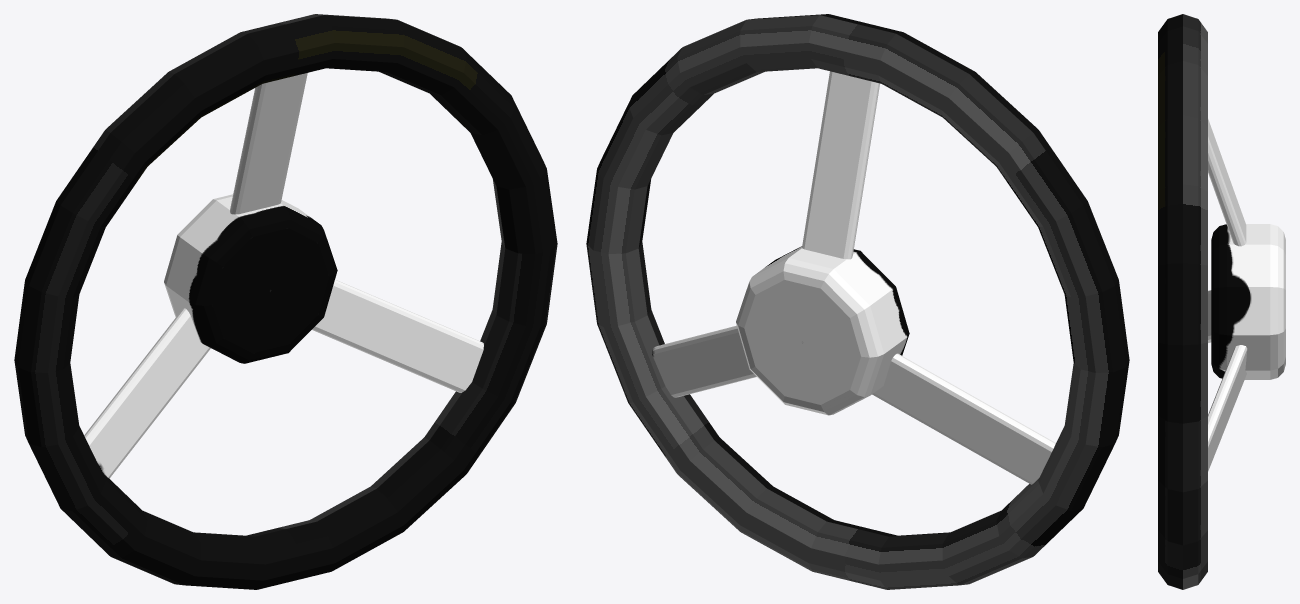
File: wheel.glb
3 views of the same model, side by side, from view 1: azimuth 30°, elevation 25°; view 2: azimuth 150°, elevation 25°; view 3: azimuth 270°, elevation 25° (orthographic). The views are drawn at different scales.
Visible parts, largest first — view 1: node_id18, node_id15, node_id9, node_id12, node_id6; view 2: node_id18, node_id15, node_id6, node_id12, node_id9; view 3: node_id18, node_id15, node_id9, node_id6, node_id12.
Part boxes in pixels (<box>): node_id18: <box>14,14,557,589</box>; node_id15: <box>164,194,337,363</box>; node_id9: <box>312,279,483,392</box>; node_id12: <box>84,308,210,478</box>; node_id6: <box>230,73,307,214</box>; node_id18: <box>586,14,1129,589</box>; node_id15: <box>736,246,909,415</box>; node_id6: <box>802,71,879,259</box>; node_id12: <box>872,353,1055,484</box>; node_id9: <box>652,325,756,397</box>; node_id18: <box>1158,14,1207,589</box>; node_id15: <box>1211,224,1285,379</box>; node_id9: <box>1208,345,1247,471</box>; node_id6: <box>1208,119,1246,246</box>; node_id12: <box>1208,290,1211,342</box>.
Bounding box in the file's own units: 0.512 × 0.5068 × 0.1136.
5 materials, 5 textured.
